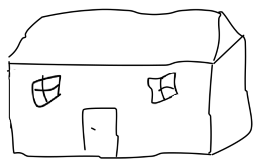big_house: (0, 1, 260, 163)
closed_window: (24, 70, 69, 110), (140, 69, 182, 108)
door: (77, 100, 125, 161)
roof: (3, 5, 250, 71)
wall: (3, 58, 216, 160)
